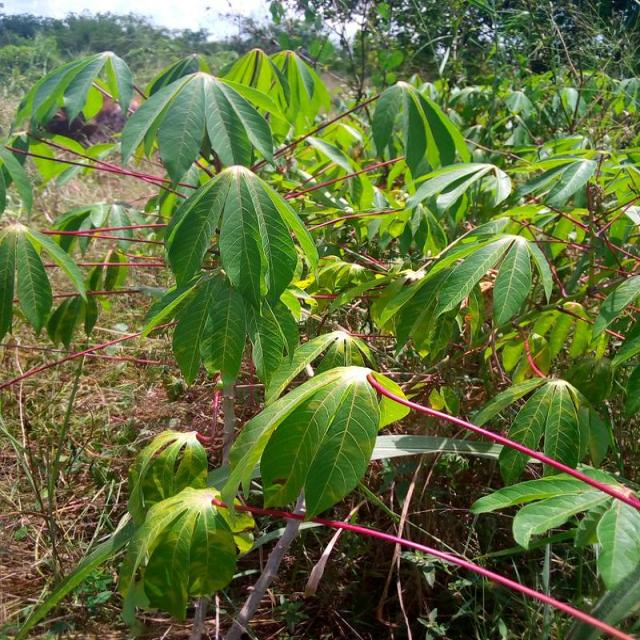cassava leaf: (140, 162, 318, 387), (120, 69, 277, 188)
